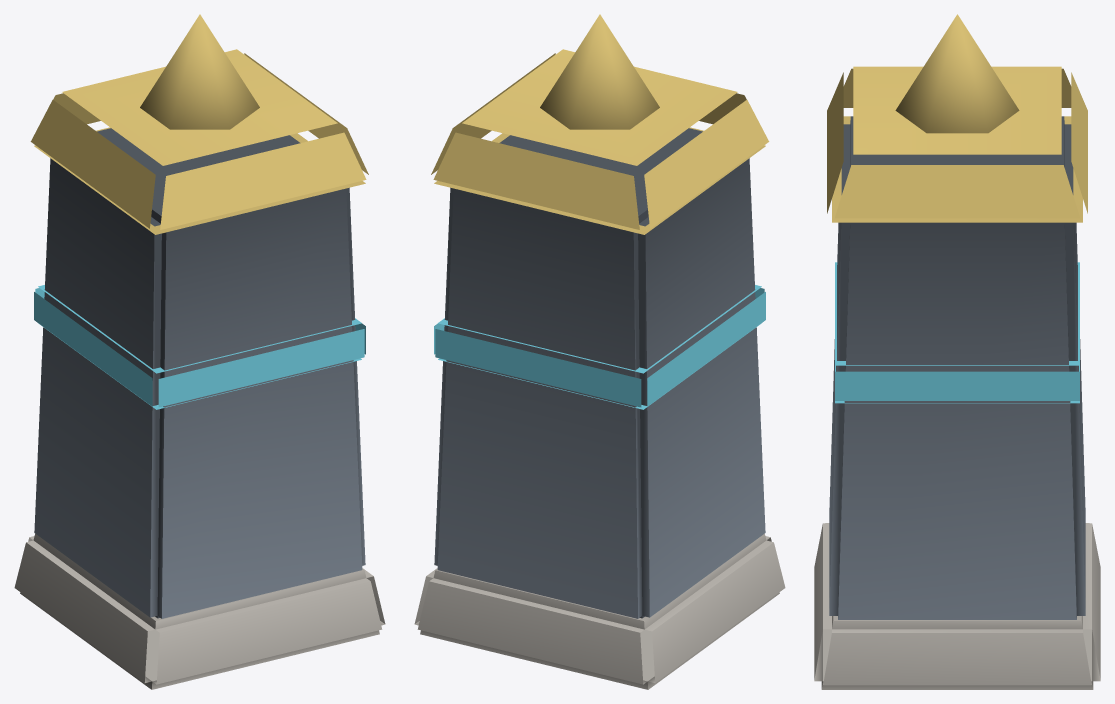
Rendered from wall_lv3_pillar_lod1.glb.
3 renders of one model, left to right at view 1: azimuth 30°, elevation 25°; view 2: azimuth 150°, elevation 25°; view 3: azimuth 270°, elevation 25°, orthographic. The views are drawn at different scales.
Visible parts, largest first — view 1: wall_lv3_pillar.001; view 2: wall_lv3_pillar.001; view 3: wall_lv3_pillar.001.
Part boxes in pixels (x1,y1,x2,y2): wall_lv3_pillar.001: (14,14,385,689); wall_lv3_pillar.001: (414,14,785,689); wall_lv3_pillar.001: (814,14,1100,689).
Size of the model in its own units: 0.9703 by 2.31 by 0.9703.
